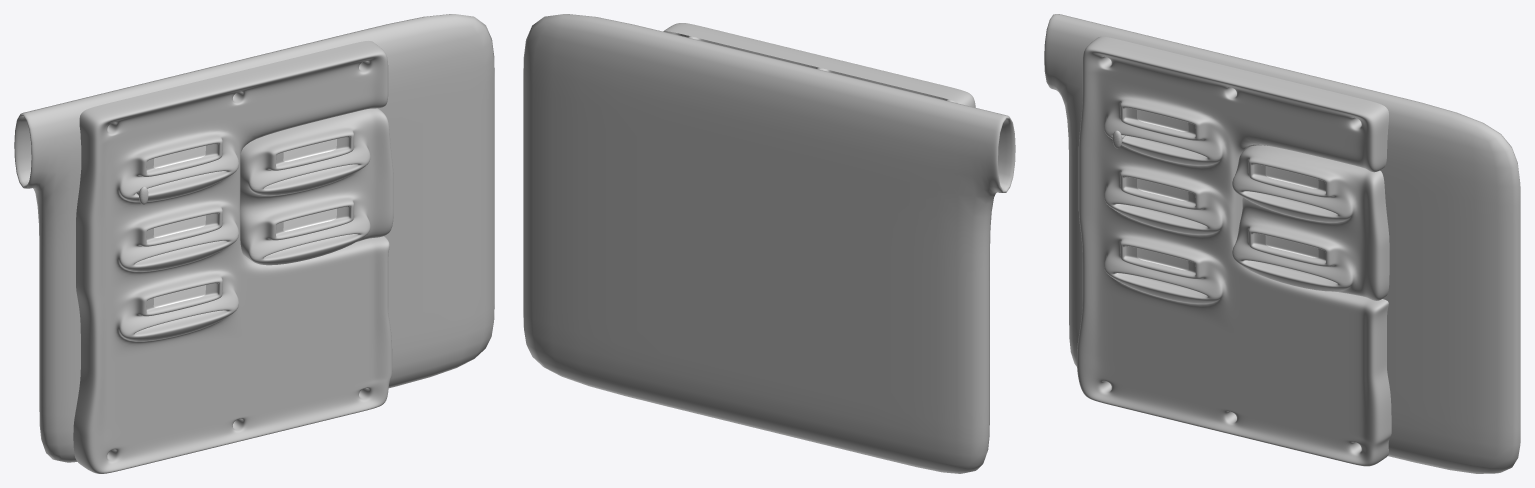
The model's file is SM_Settings_Sound_00.fbx.
The picture shows the model from 3 angles, left to right: view 1: azimuth 30°, elevation 25°; view 2: azimuth 150°, elevation 25°; view 3: azimuth 330°, elevation 25°; orthographic projection. The views are drawn at different scales.
Visible parts, largest first — view 1: SM_Settings_Sound_00, SM_Settings_Controls_00.001; view 2: SM_Settings_Controls_00.001, SM_Settings_Sound_00; view 3: SM_Settings_Sound_00, SM_Settings_Controls_00.001.
Boxes of the visible parts, x1,y1,x2,y2 form: SM_Settings_Sound_00: [73, 41, 393, 473]; SM_Settings_Controls_00.001: [14, 14, 494, 462]; SM_Settings_Controls_00.001: [523, 14, 1015, 473]; SM_Settings_Sound_00: [663, 23, 975, 107]; SM_Settings_Sound_00: [1077, 36, 1391, 466]; SM_Settings_Controls_00.001: [1044, 14, 1520, 473].
Size of the model in its own units: 1129 by 827 by 166.
